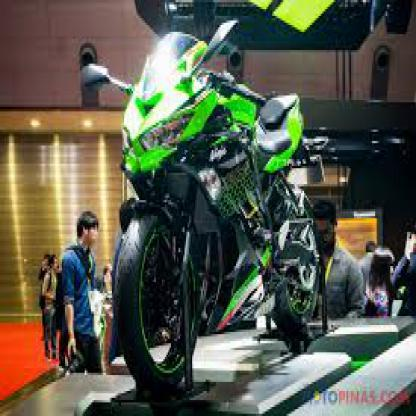Motorcycle: (75, 15, 335, 398)
